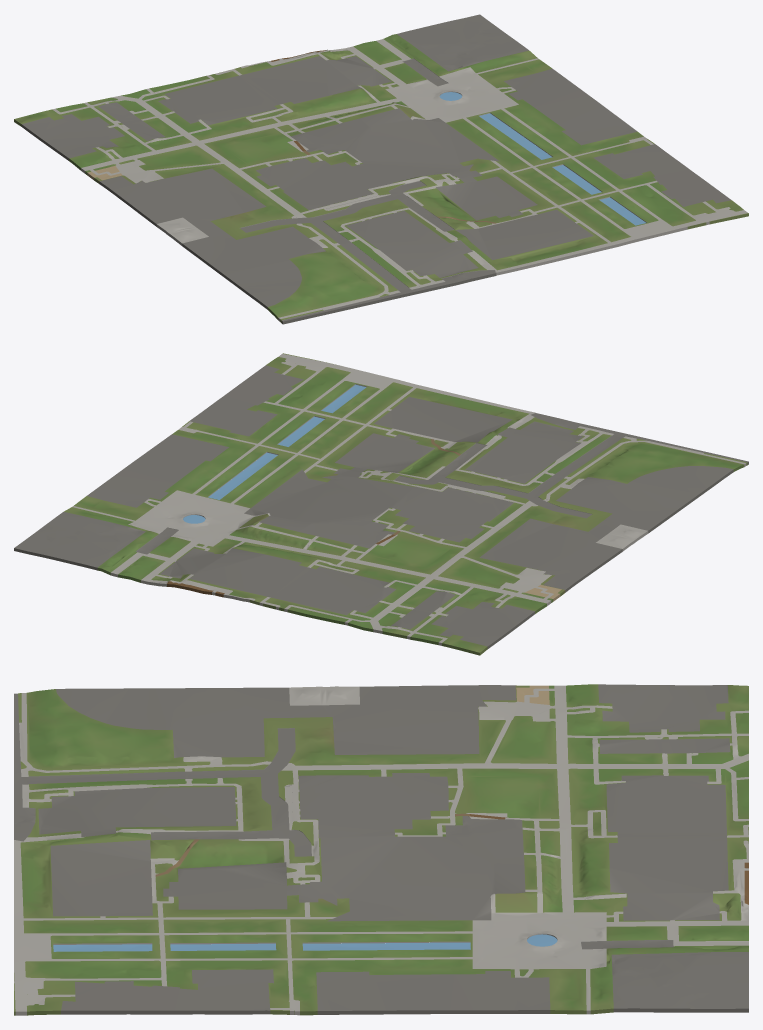
3 views of the same model, one above another, from view 1: azimuth 30°, elevation 25°; view 2: azimuth 150°, elevation 25°; view 3: azimuth 270°, elevation 25° (orthographic). The views are drawn at different scales.
Visible parts, largest first — view 1: T-0-0.L2:utd:matte, T-0-0.L2:utd:water; view 2: T-0-0.L2:utd:matte, T-0-0.L2:utd:water; view 3: T-0-0.L2:utd:matte, T-0-0.L2:utd:water.
Part boxes in pixels (box(x1,y1,x2,y2)): T-0-0.L2:utd:matte: box(14, 14, 748, 324); T-0-0.L2:utd:water: box(439, 92, 645, 225); T-0-0.L2:utd:matte: box(14, 353, 748, 655); T-0-0.L2:utd:water: box(183, 384, 366, 523); T-0-0.L2:utd:matte: box(14, 684, 748, 1015); T-0-0.L2:utd:water: box(53, 934, 557, 951).
Bounding box in the file's own units: 256 × 8.05 × 256.
